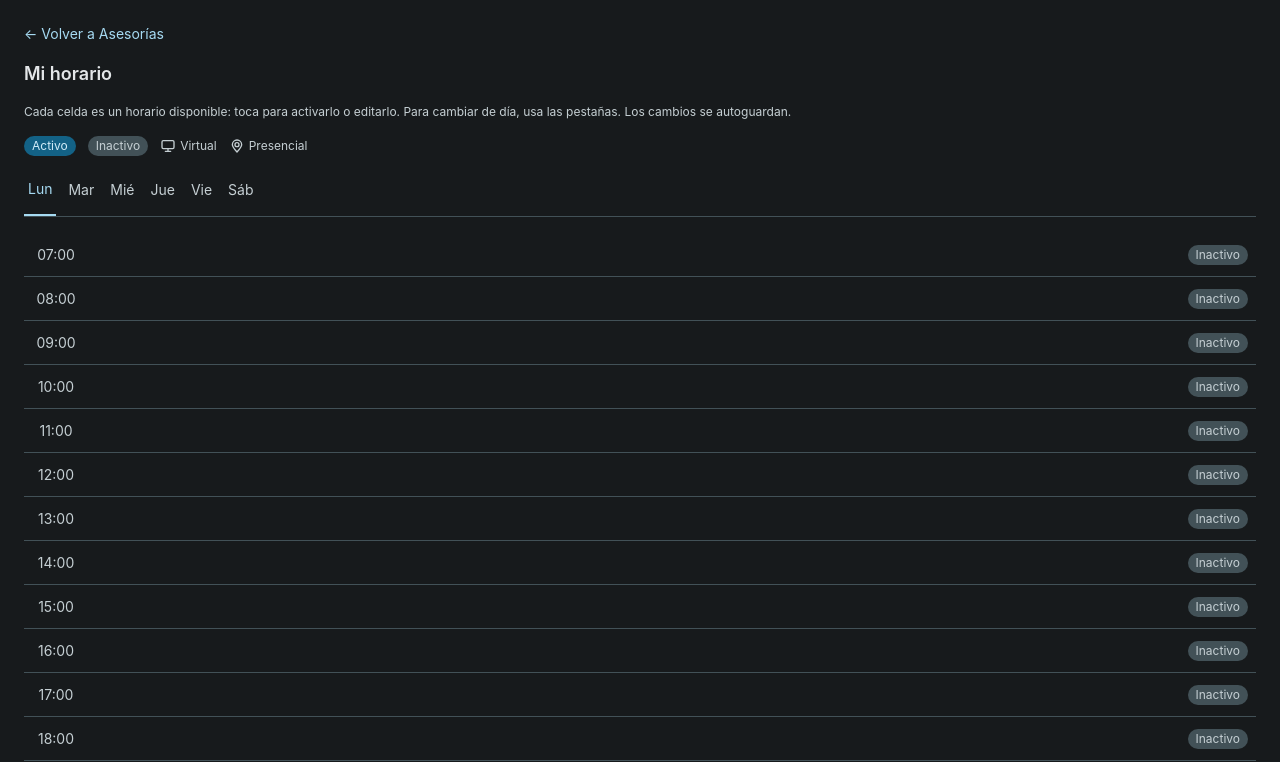
Test: MiHorario › tocar un slot vacío abre el diálogo de bloque nuevo
The width and height of the screenshot is (1280, 762).
Click the button with aria-label "Horario 09:00".
click(56, 342)  # box [24,321,1256,365]
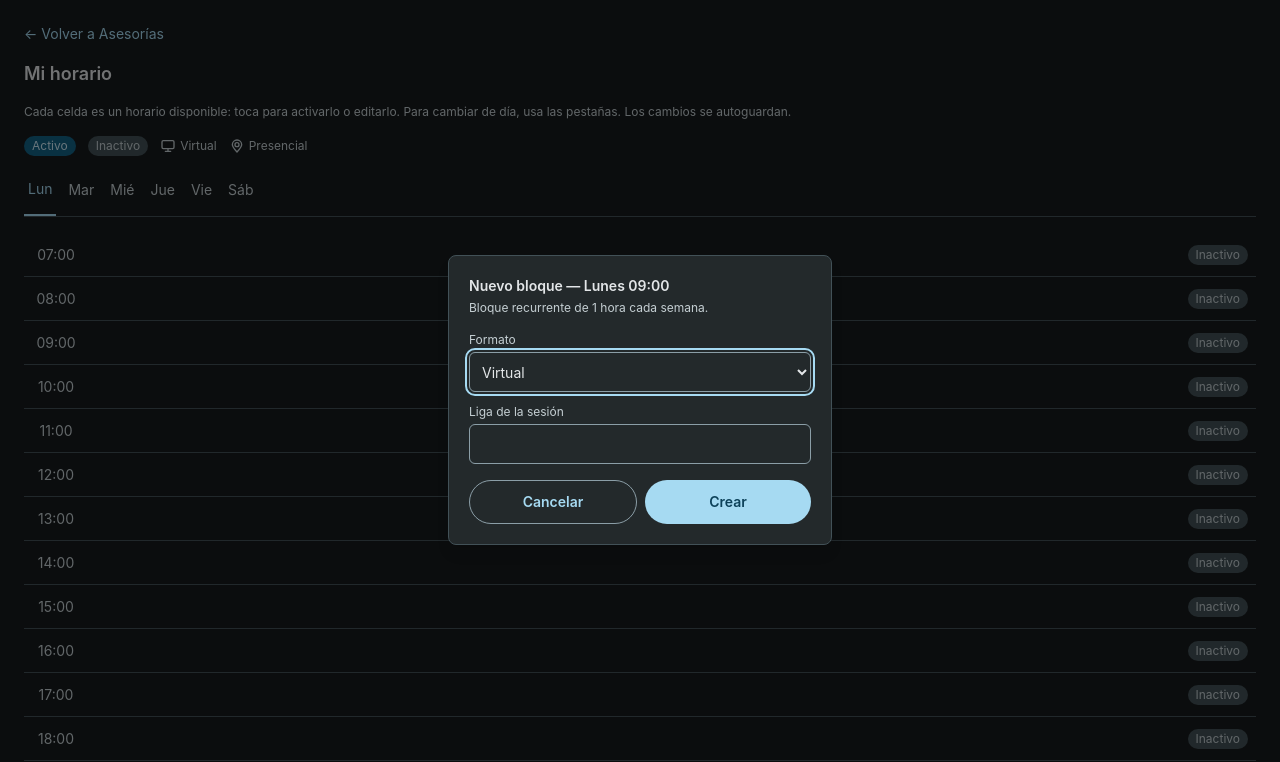
Expected: the dialog "Nuevo bloque — Lunes 09:00" is shown, [448,255,832,545]
